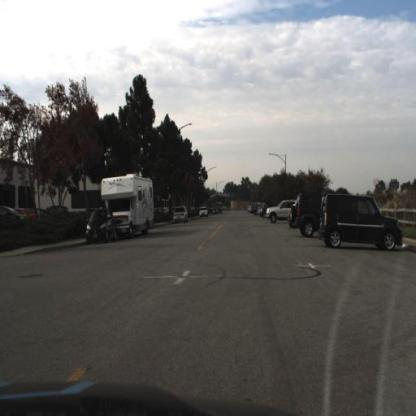car: (320, 194, 404, 250), (100, 171, 157, 240), (294, 194, 354, 241), (85, 208, 118, 244), (89, 208, 117, 244), (265, 199, 294, 225), (1, 205, 26, 232), (172, 204, 190, 227), (199, 205, 211, 221)
truck: (102, 176, 157, 238)
